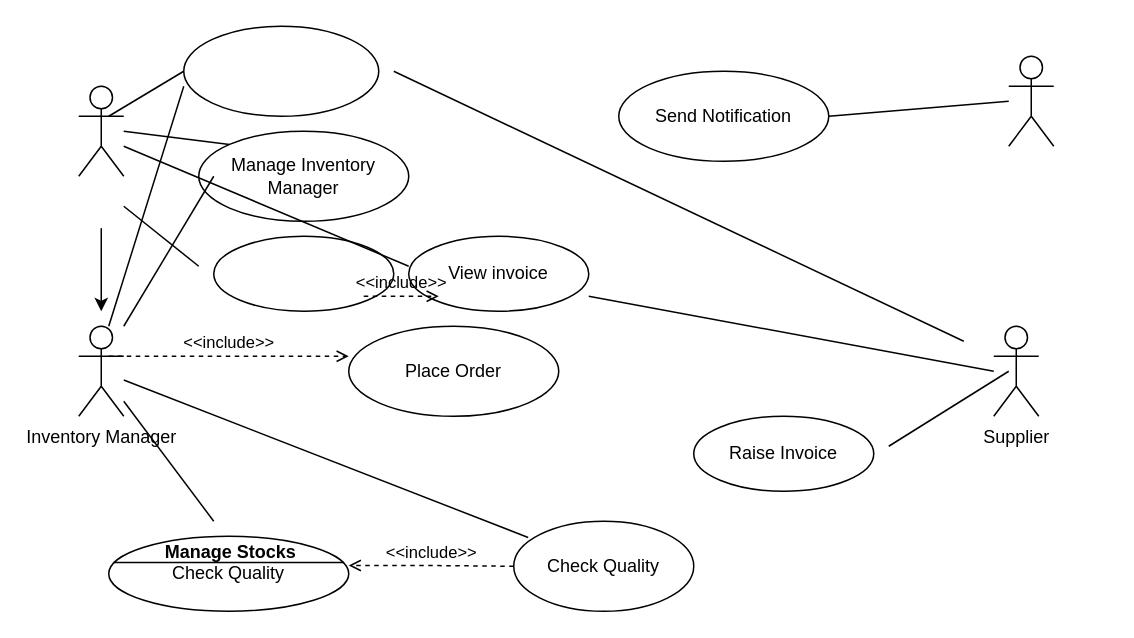
The diagram is 1134 pixels wide and 638 high, and some of its shapes have lost their labels. Here are the shapes that lost their labels. From the top down, the centre of each, then its label:
At [280,70]: "Login/ Logout".
At [1030,100]: "Notification Service".
At [100,130]: "Admin".
At [303,273]: "Pay Supplier".
